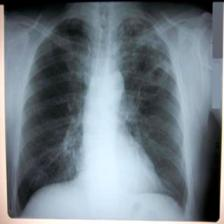tuberculosis: (15, 12, 192, 214)
